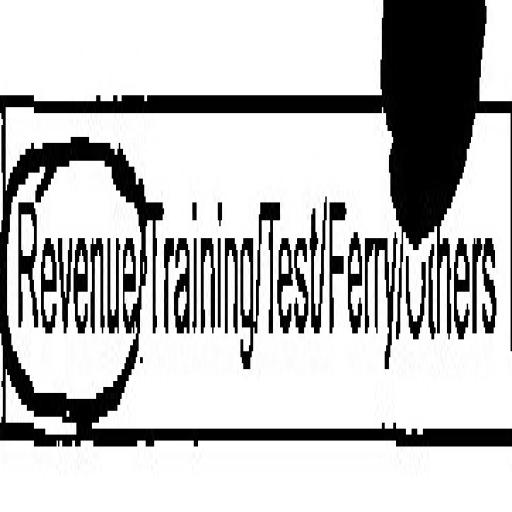check: (0, 15, 146, 512)
